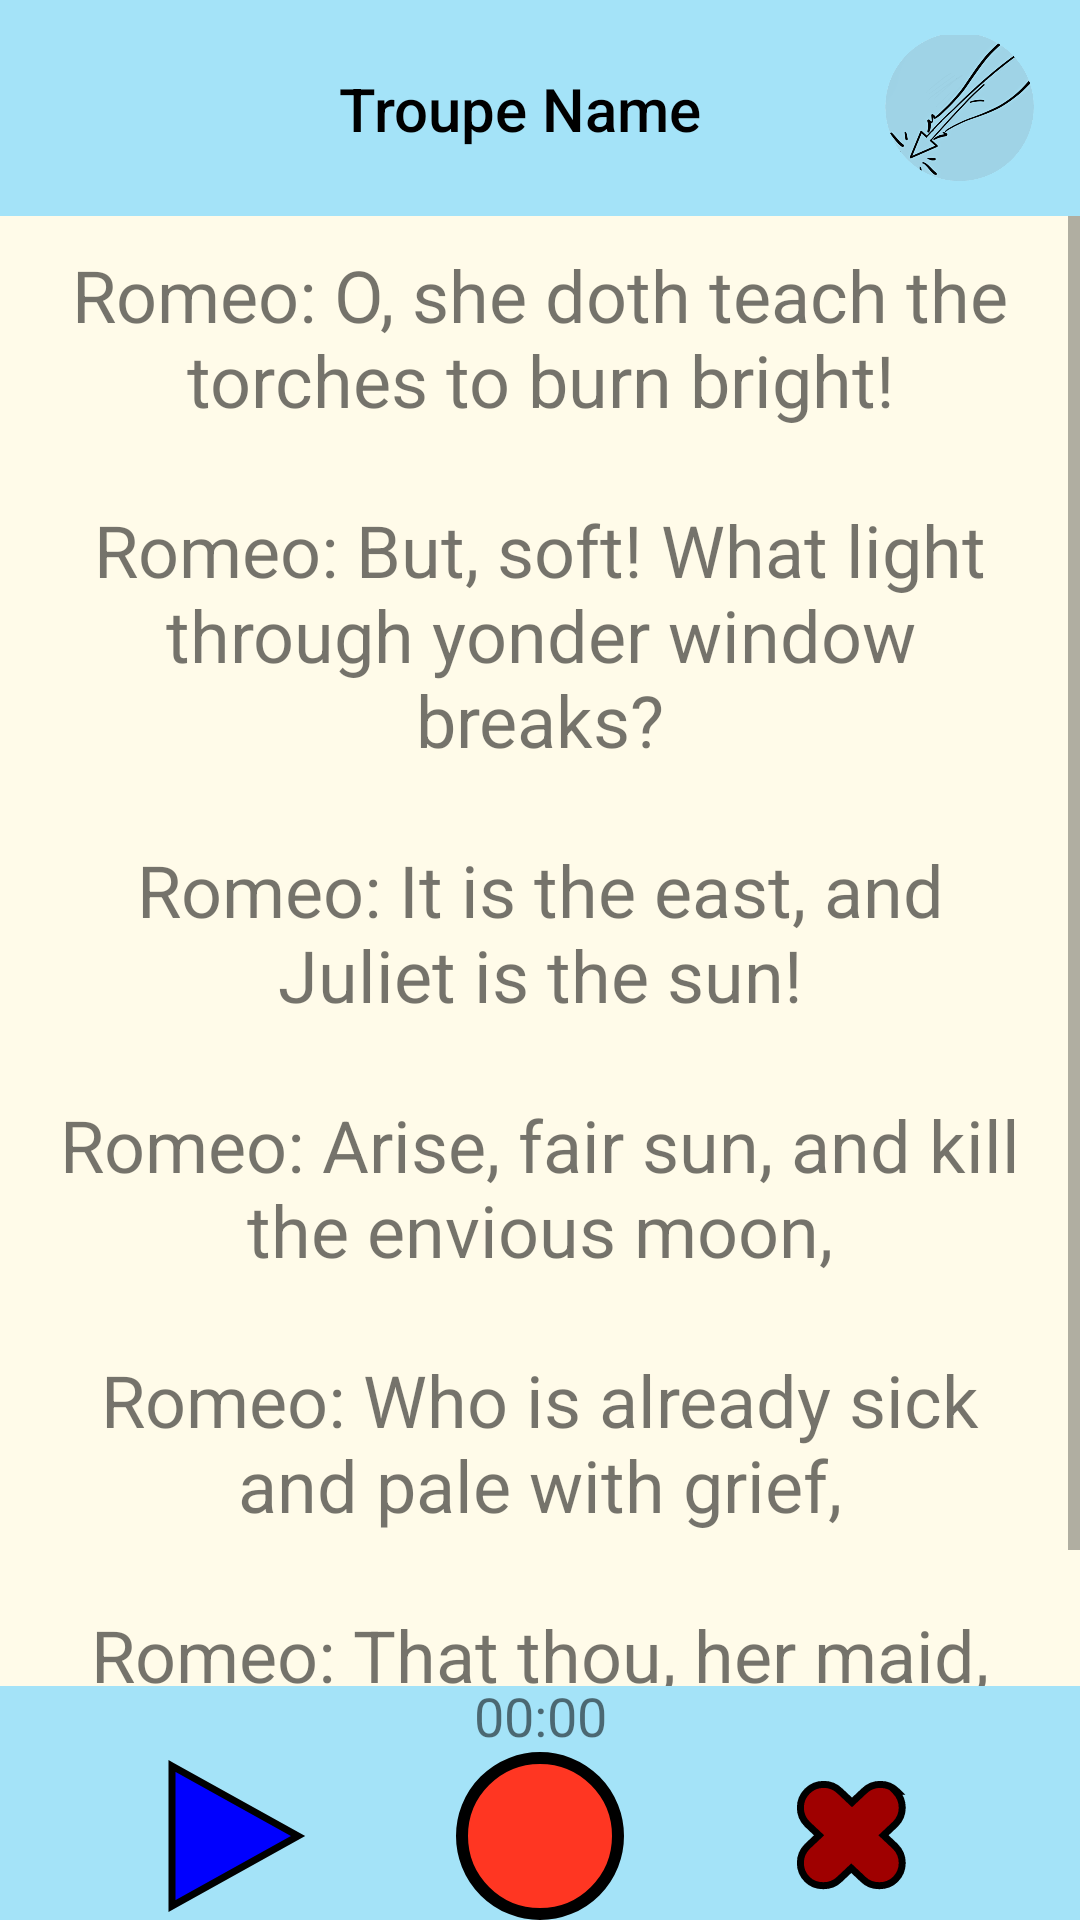

Icon click points for this 1080×1920 phone screenshot, format point (x, y):
scriptclick: point (959, 108)
